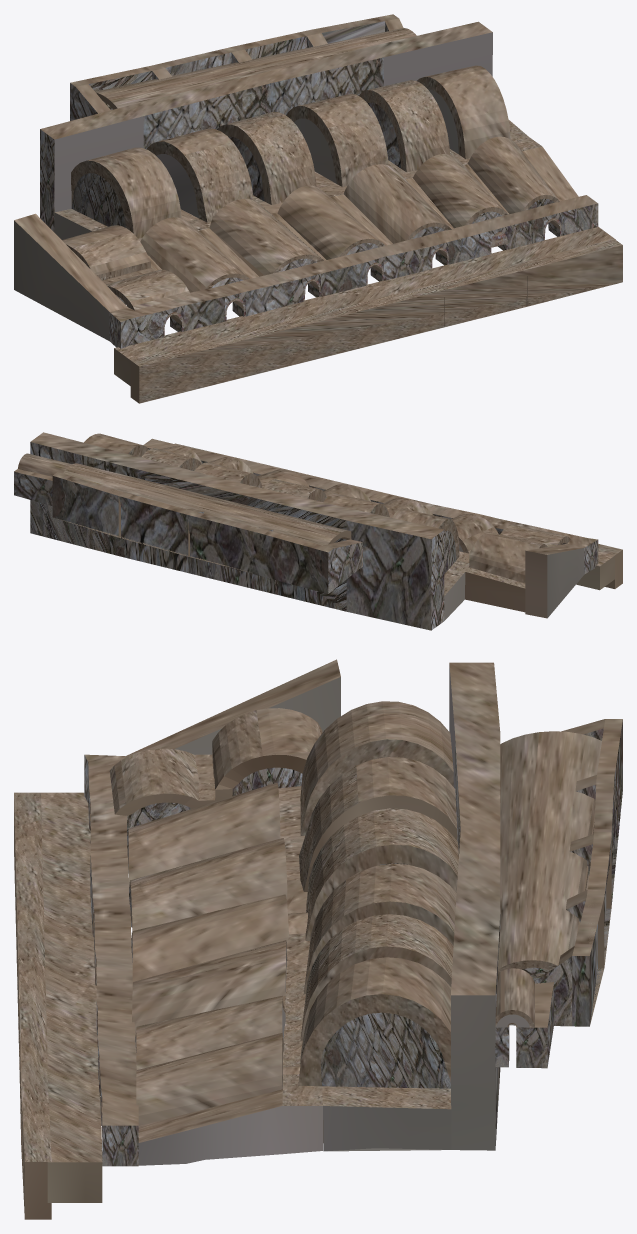
File: dipl.fbx
3 renders of one model, top to bottom at view 1: azimuth 30°, elevation 25°; view 2: azimuth 150°, elevation 25°; view 3: azimuth 270°, elevation 25°, orthographic. The views are drawn at different scales.
Visible parts, largest first — view 1: a; view 2: a; view 3: a.
Boxes of the visible parts, x1=… form: a: x1=14, y1=14, x2=622, y2=403; a: x1=14, y1=432, x2=622, y2=630; a: x1=14, y1=659, x2=622, y2=1219.
Bounding box in the file's own units: 4147 × 1135 × 2725.
